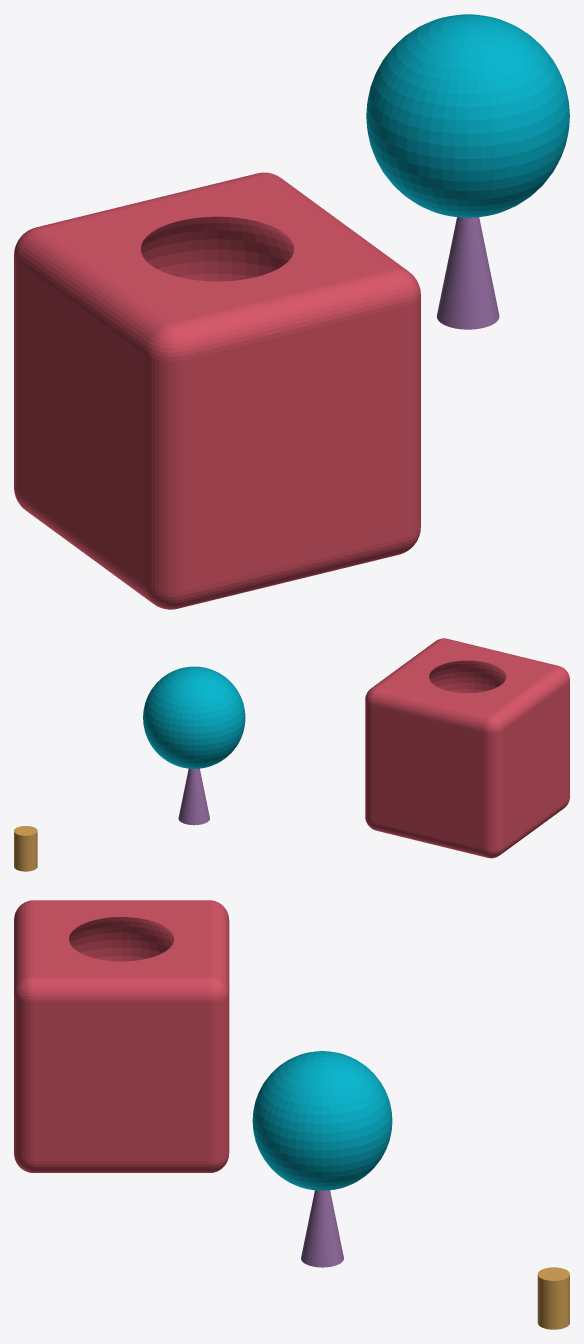
The model's file is evie c.glb.
3 views of the same model, one above another, from view 1: azimuth 30°, elevation 25°; view 2: azimuth 150°, elevation 25°; view 3: azimuth 270°, elevation 25° (orthographic). The views are drawn at different scales.
Parts seen in each view (by area): view 1: Mesh_Mesh_head_geo.001_lambert2SG.001; view 2: Mesh_Mesh_head_geo.001_lambert2SG.001; view 3: Mesh_Mesh_head_geo.001_lambert2SG.001.
Boxes of the visible parts, box(x1,y1,x2,y2) form: Mesh_Mesh_head_geo.001_lambert2SG.001: box(14, 14, 569, 609); Mesh_Mesh_head_geo.001_lambert2SG.001: box(14, 638, 569, 871); Mesh_Mesh_head_geo.001_lambert2SG.001: box(14, 900, 569, 1329).
Size of the model in its own units: 0.106 by 0.043 by 0.1033.
